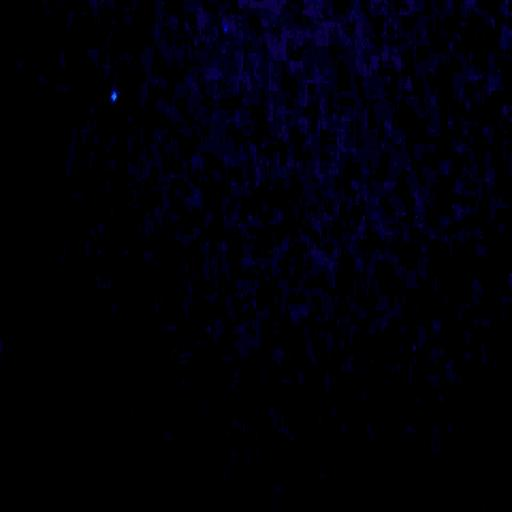object-detection-project: (111, 91, 117, 101)
